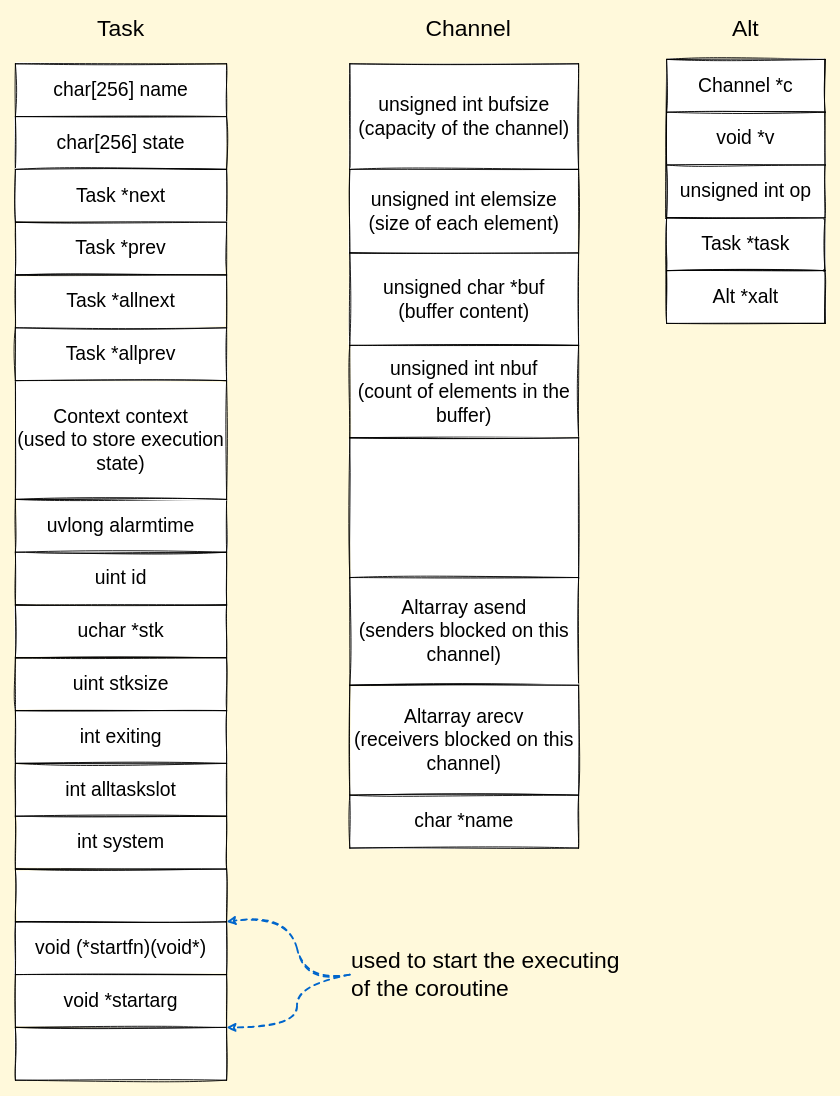
Some shapes in this 840 by 1096 pixel diagram are drawn without their labels. The centre of each missing label's shape, as x and y in pixels:
"int ready" belongs at pixel 121 895.
"unsigned int off (read offset, i.e, the next receive action would read from)" belongs at pixel 464 508.
"void *udata" belongs at pixel 121 1053.
